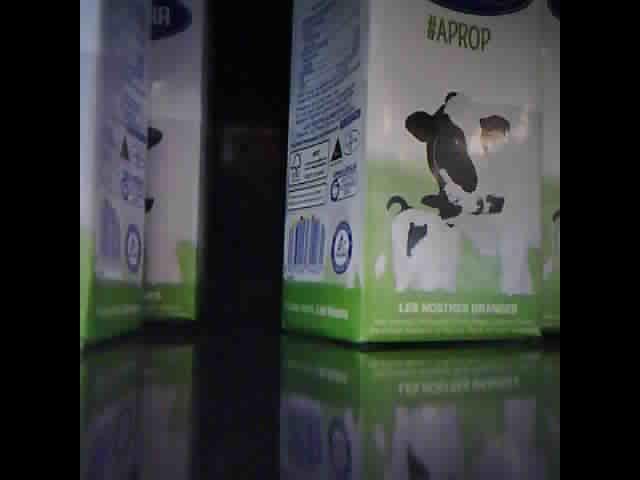leche: (281, 3, 545, 345), (80, 2, 150, 345), (150, 3, 203, 322), (543, 6, 561, 333)
